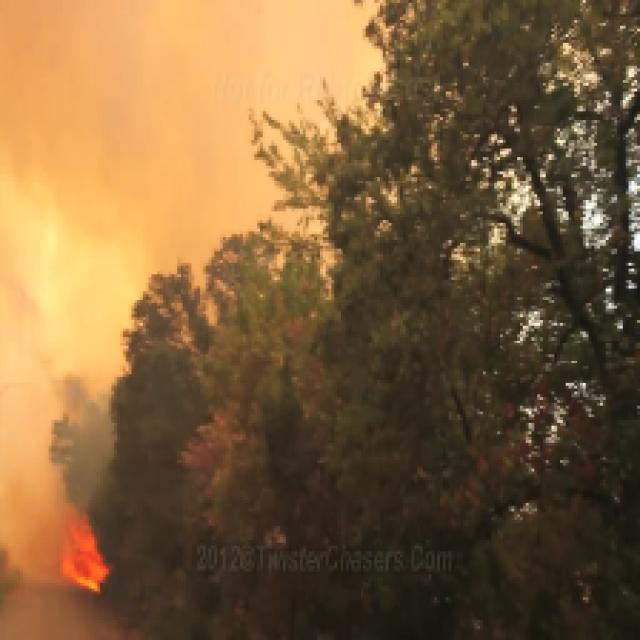Smoke: (0, 3, 391, 426), (37, 460, 160, 617)
